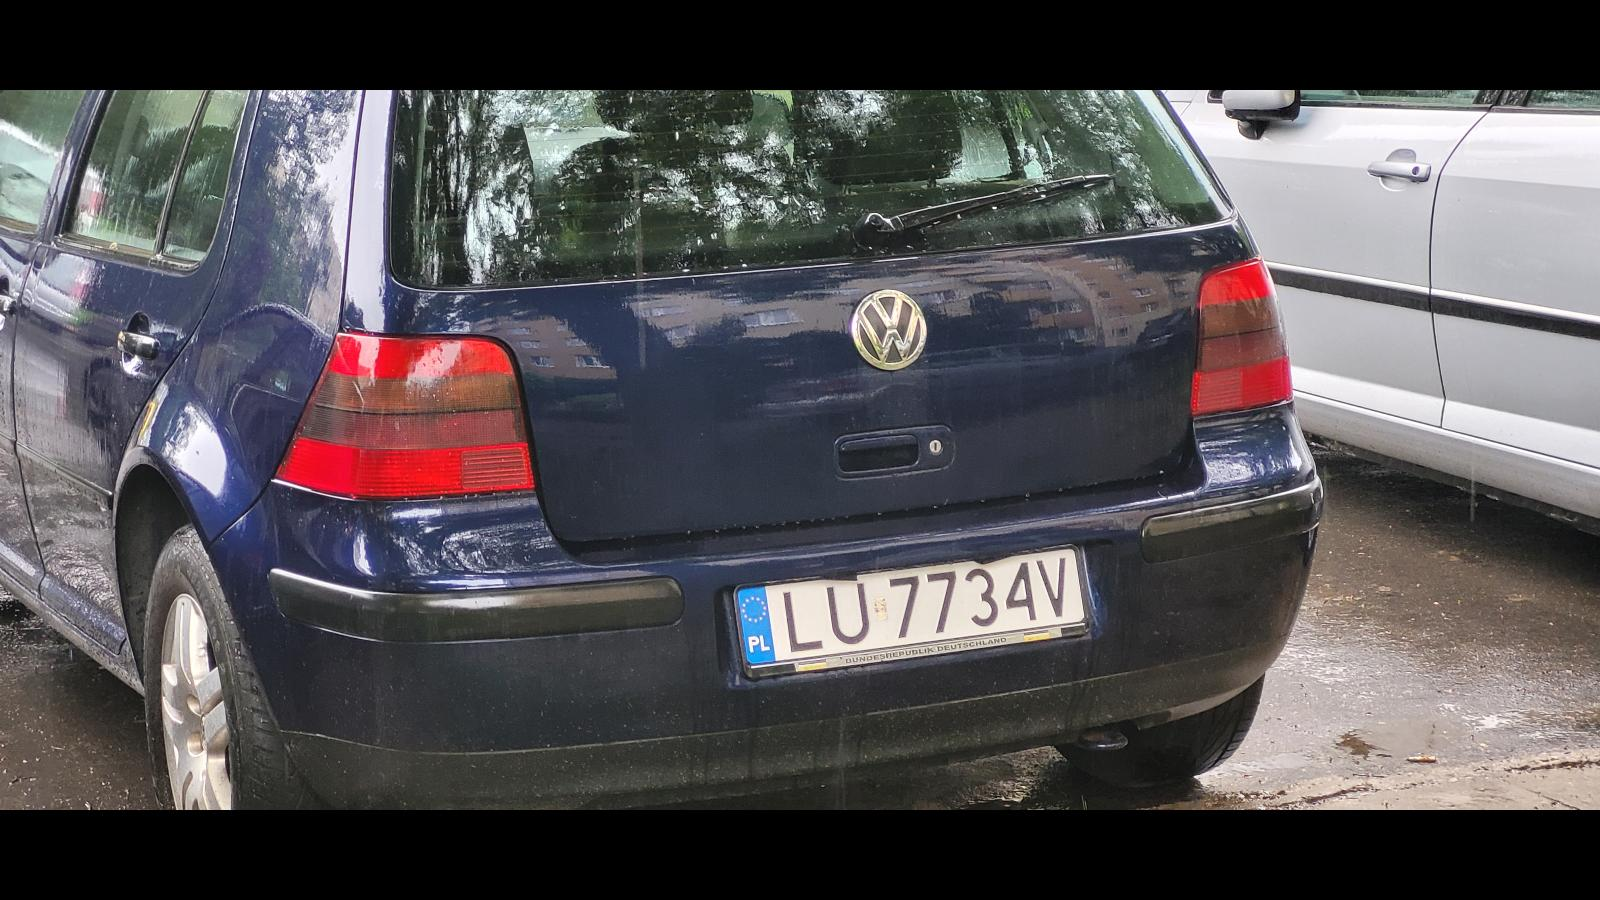plates: (734, 544, 1090, 678)
